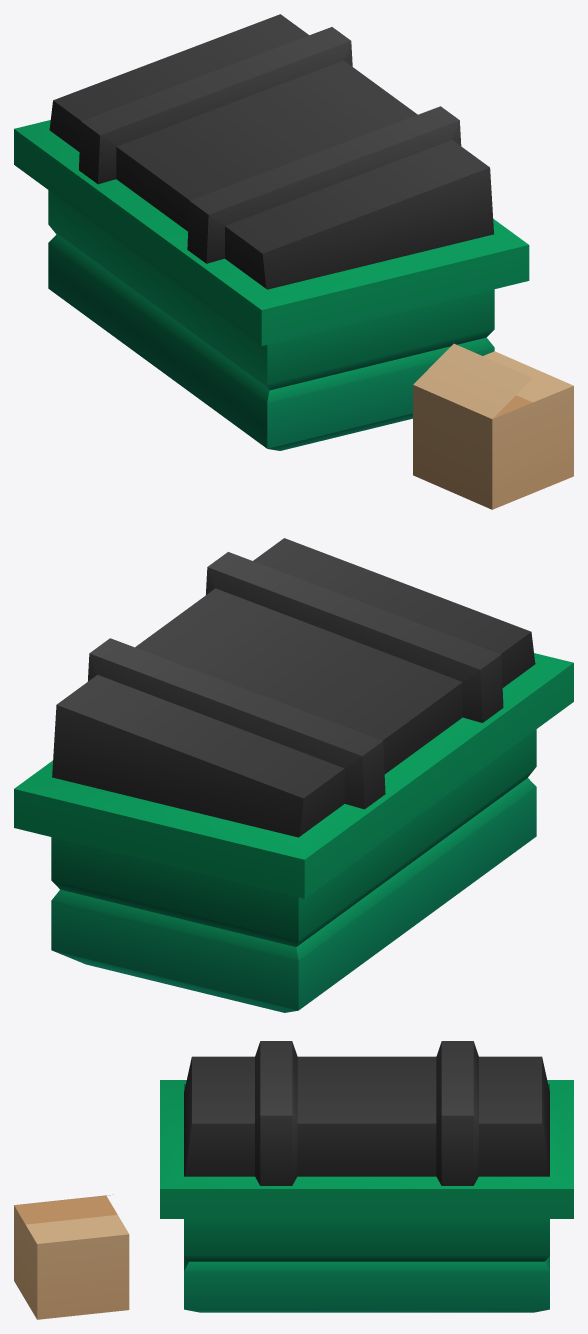
Rendered from CONTENEDOR.fbx.
The picture shows the model from 3 angles, top to bottom: view 1: azimuth 30°, elevation 25°; view 2: azimuth 150°, elevation 25°; view 3: azimuth 270°, elevation 25°; orthographic projection. The views are drawn at different scales.
Visible parts, largest first — view 1: building_A.012; view 2: building_A.012; view 3: building_A.012.
Boxes of the visible parts, bbox=[...] form: building_A.012: bbox=[14, 14, 573, 509]; building_A.012: bbox=[14, 538, 573, 1012]; building_A.012: bbox=[14, 1041, 573, 1319].
Size of the model in its own units: 318 by 690 by 288.
1 material, 1 textured.
